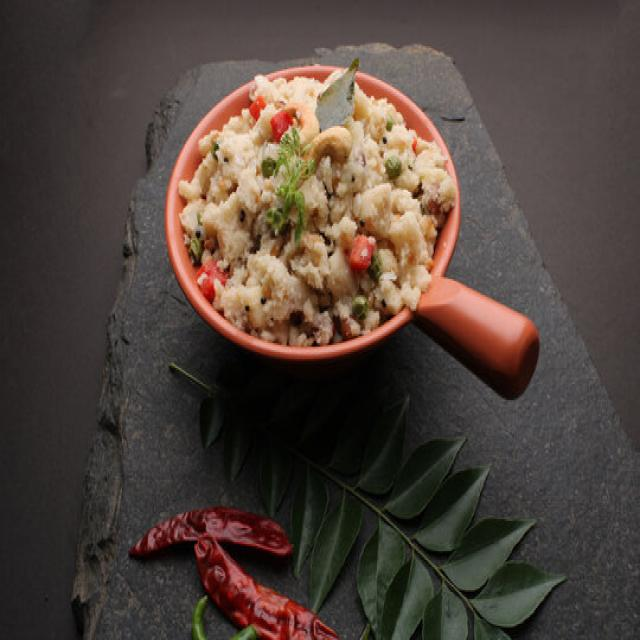UPMA: (172, 68, 457, 359)
